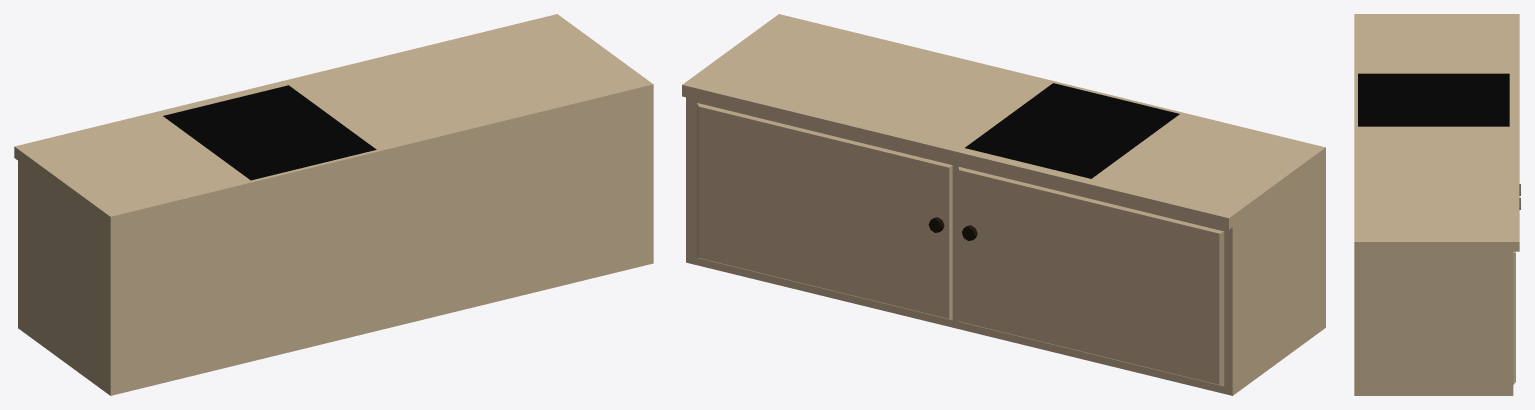
Rendered from KitchenCounter.fbx.
The picture shows the model from 3 angles, left to right: view 1: azimuth 30°, elevation 25°; view 2: azimuth 150°, elevation 25°; view 3: azimuth 270°, elevation 25°; orthographic projection. The views are drawn at different scales.
Visible parts, largest first — view 1: Cube; view 2: Cube; view 3: Cube.
Boxes of the visible parts, x1,y1,x2,y2 form: Cube: [14, 14, 653, 395]; Cube: [682, 14, 1325, 395]; Cube: [1354, 14, 1520, 395].
Bounding box in the file's own units: 339 × 107 × 105.
